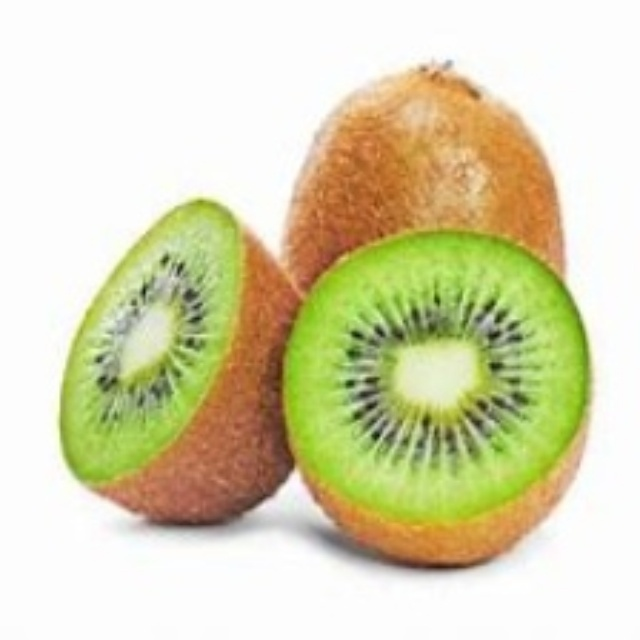kiwi: (278, 233, 593, 569), (275, 55, 569, 338), (61, 192, 299, 528)
